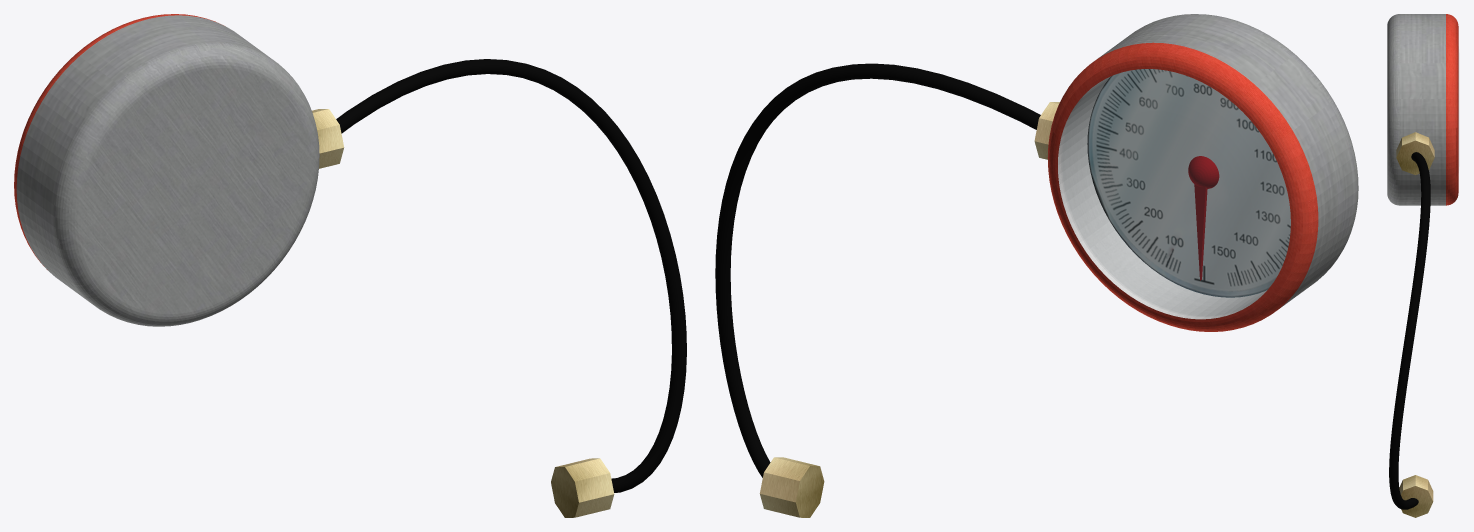
The model's file is manometer.fbx.
3 renders of one model, left to right at view 1: azimuth 30°, elevation 25°; view 2: azimuth 150°, elevation 25°; view 3: azimuth 270°, elevation 25°, orthographic. The views are drawn at different scales.
Visible parts, largest first — view 1: manometr, truba, input_flask, input_mano; view 2: manometr, mano_glass, truba, input_flask, arrow, input_mano; view 3: manometr, truba, input_mano, input_flask.
Boxes of the visible parts, <box> form: manometr: <box>14,14,319,326</box>; truba: <box>336,59,686,492</box>; input_flask: <box>551,458,614,517</box>; input_mano: <box>312,109,344,168</box>; manometr: <box>1047,14,1358,331</box>; mano_glass: <box>1062,69,1290,315</box>; truba: <box>715,63,1040,477</box>; input_flask: <box>759,457,824,517</box>; arrow: <box>1188,156,1219,280</box>; input_mano: <box>1034,102,1059,159</box>; manometr: <box>1387,14,1458,205</box>; truba: <box>1389,152,1430,509</box>; input_mano: <box>1396,132,1434,174</box>; input_flask: <box>1399,475,1433,517</box>.
Bounding box in the file's own units: 478 × 419 × 75.81.
